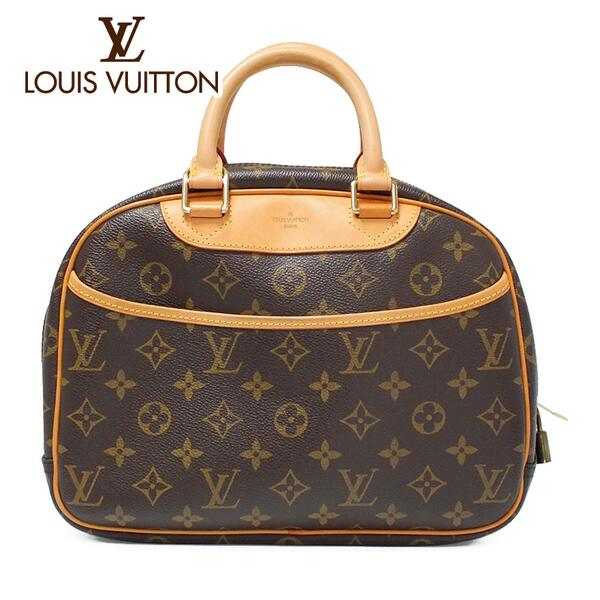LOUIS-VUITTON: (92, 9, 153, 66)
